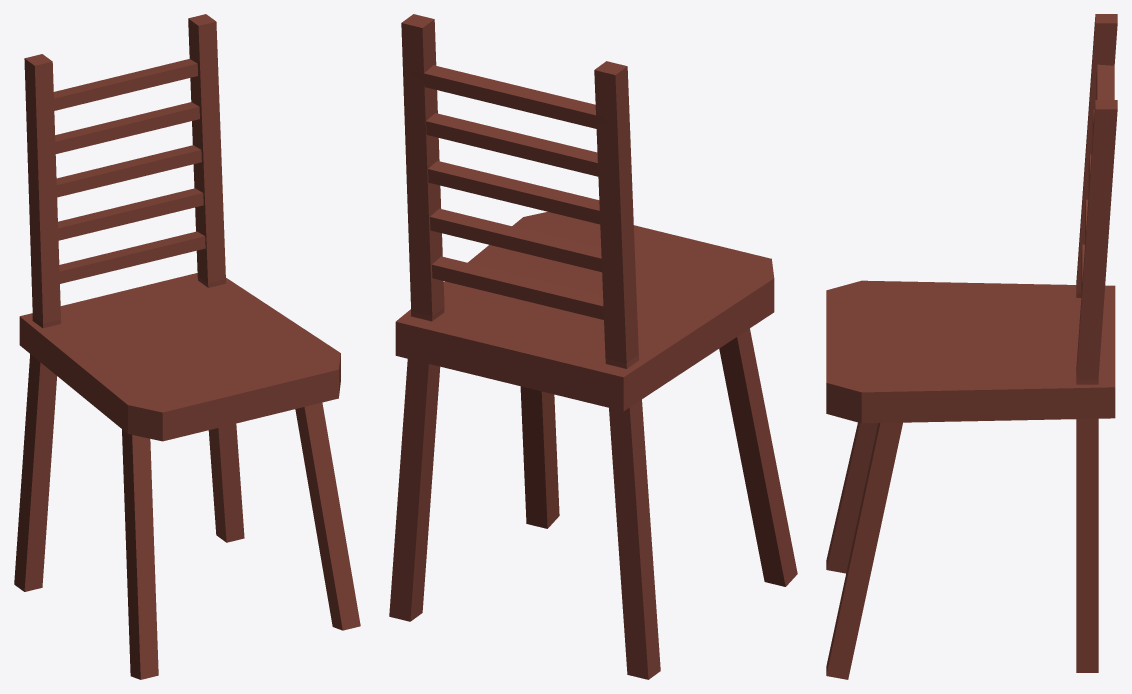
Rendered from Thin Chair.fbx.
The picture shows the model from 3 angles, left to right: view 1: azimuth 30°, elevation 25°; view 2: azimuth 150°, elevation 25°; view 3: azimuth 270°, elevation 25°; orthographic projection. The views are drawn at different scales.
Visible parts, largest first — view 1: Thin Chair; view 2: Thin Chair; view 3: Thin Chair.
Boxes of the visible parts, left/top/right/bottom form: Thin Chair: left=14, top=14, right=360, bottom=679; Thin Chair: left=389, top=14, right=797, bottom=679; Thin Chair: left=826, top=14, right=1117, bottom=679.
Bounding box in the file's own units: 0.5362 × 1.21 × 0.572.
